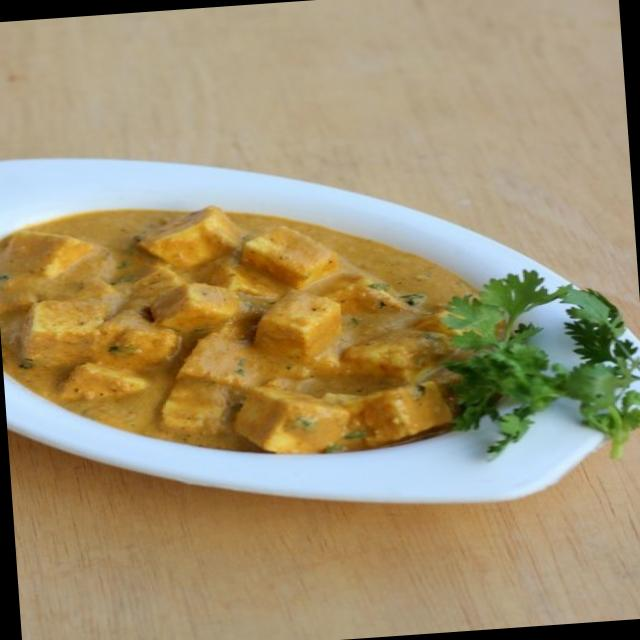ShahiPaneer: (0, 179, 506, 475)
